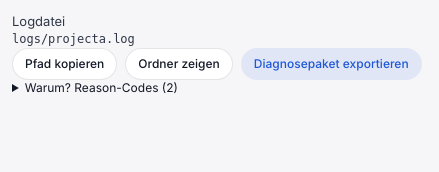
Test: DiagnoseSection actions › lets the last action win the status line: a later export replaces a failed copy
What coordinates should you click on to do the following:
click the button "Pfad kopieren"
I would click on:
 (65, 64)
Its box is [12,48,117,80].
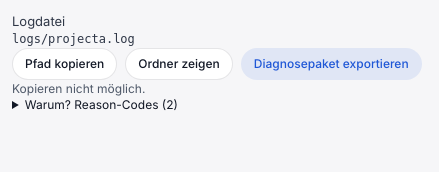
Now the text "Kopieren nicht möglich." is shown, box [12,81,145,96]
What coordinates should you click on to do the following:
click the button "Diagnosepaket exportieren"
I would click on:
 (331, 64)
Its box is [241,48,422,80].
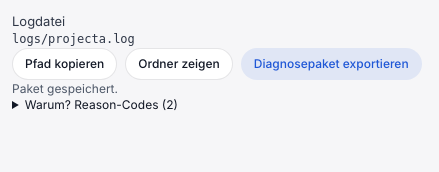
Now the text "Paket gespeichert." is shown, box [12,81,118,96]
Now the text "Kopieren nicht möglich." is gone
